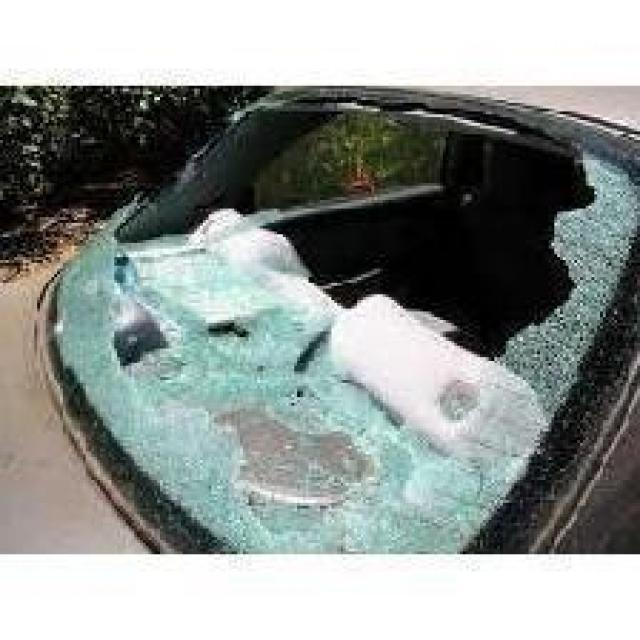damaged: (48, 94, 638, 552)
